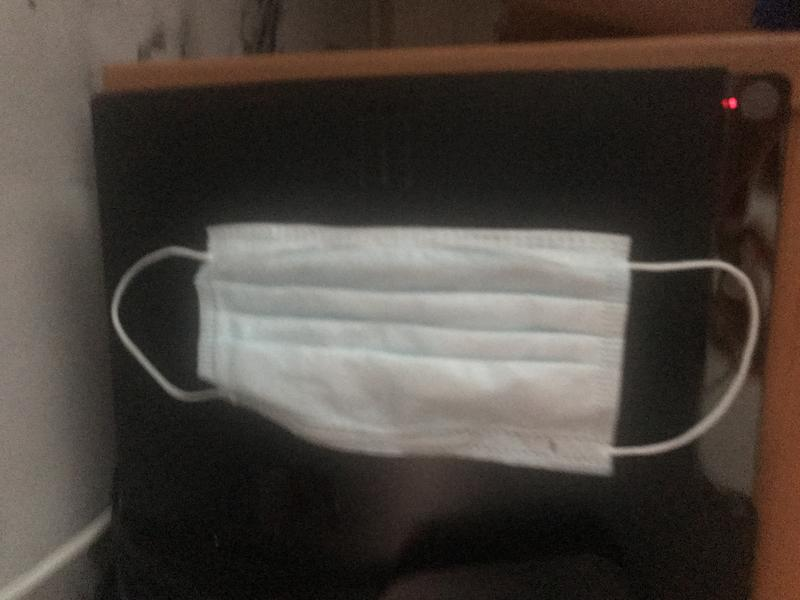medical_mask: (111, 223, 759, 480)
